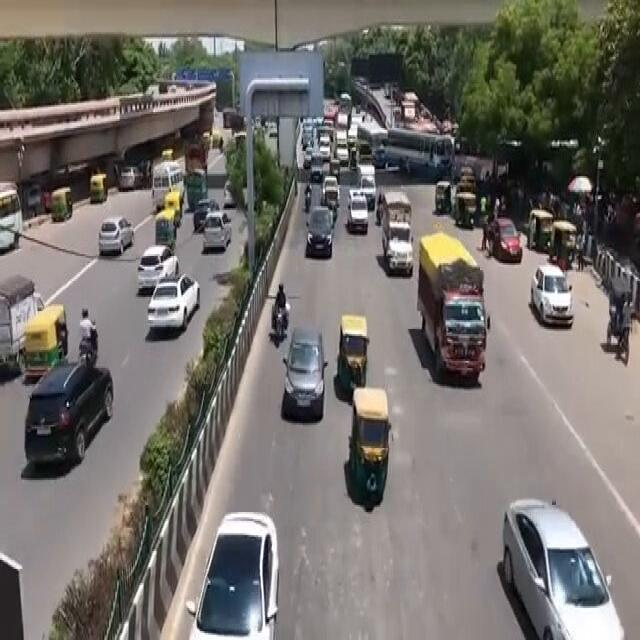three_wheeler: (341, 379, 401, 519)
